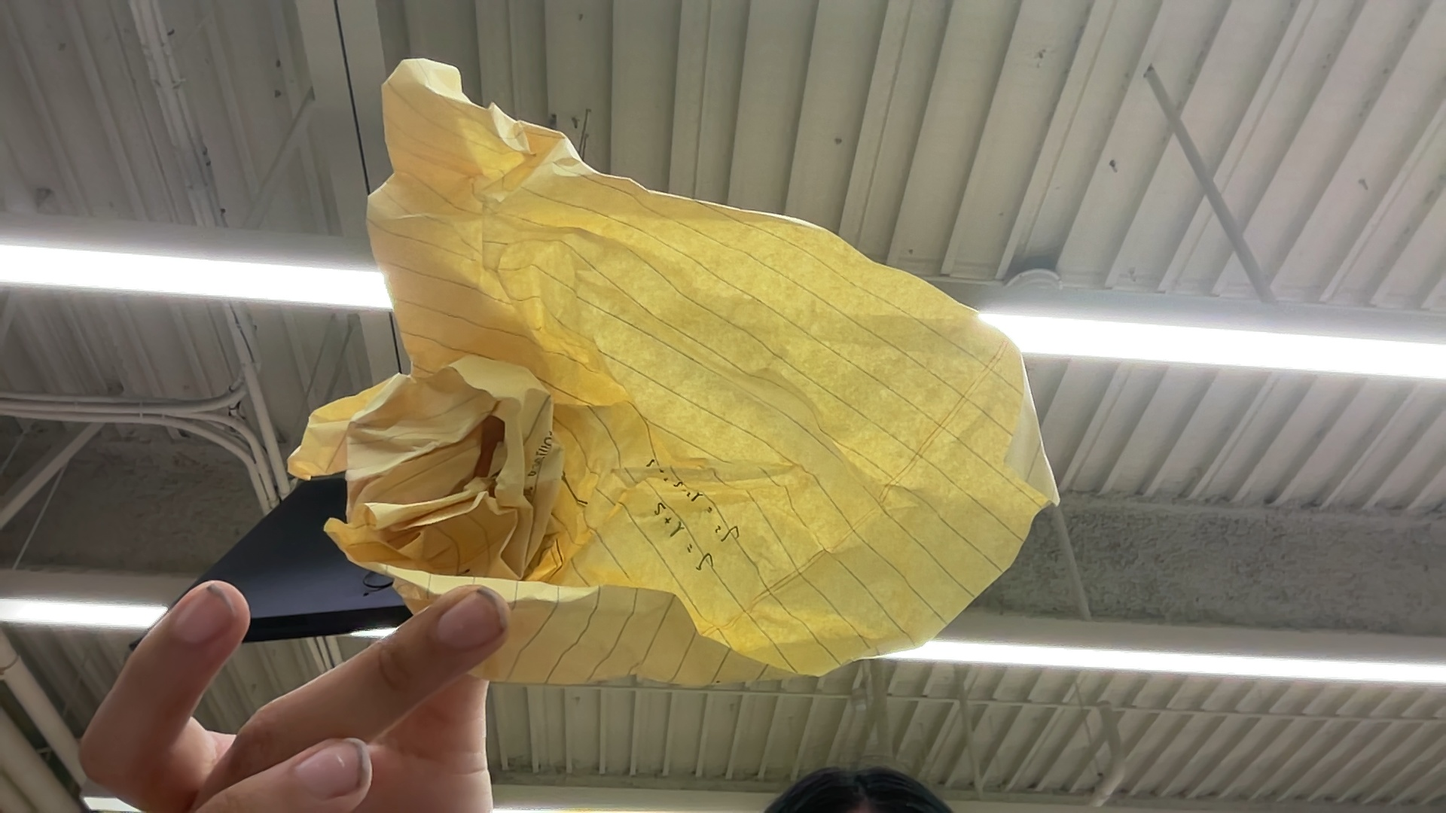Paper: (363, 35, 1066, 654)
